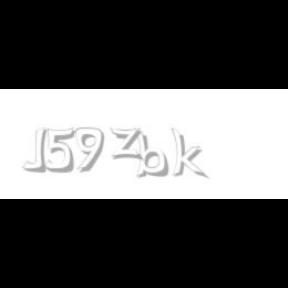5: (44, 128, 76, 174)
9: (76, 128, 104, 172)
J: (22, 128, 46, 172)
b: (134, 128, 172, 178)
k: (170, 128, 208, 180)
z: (109, 128, 145, 160)
